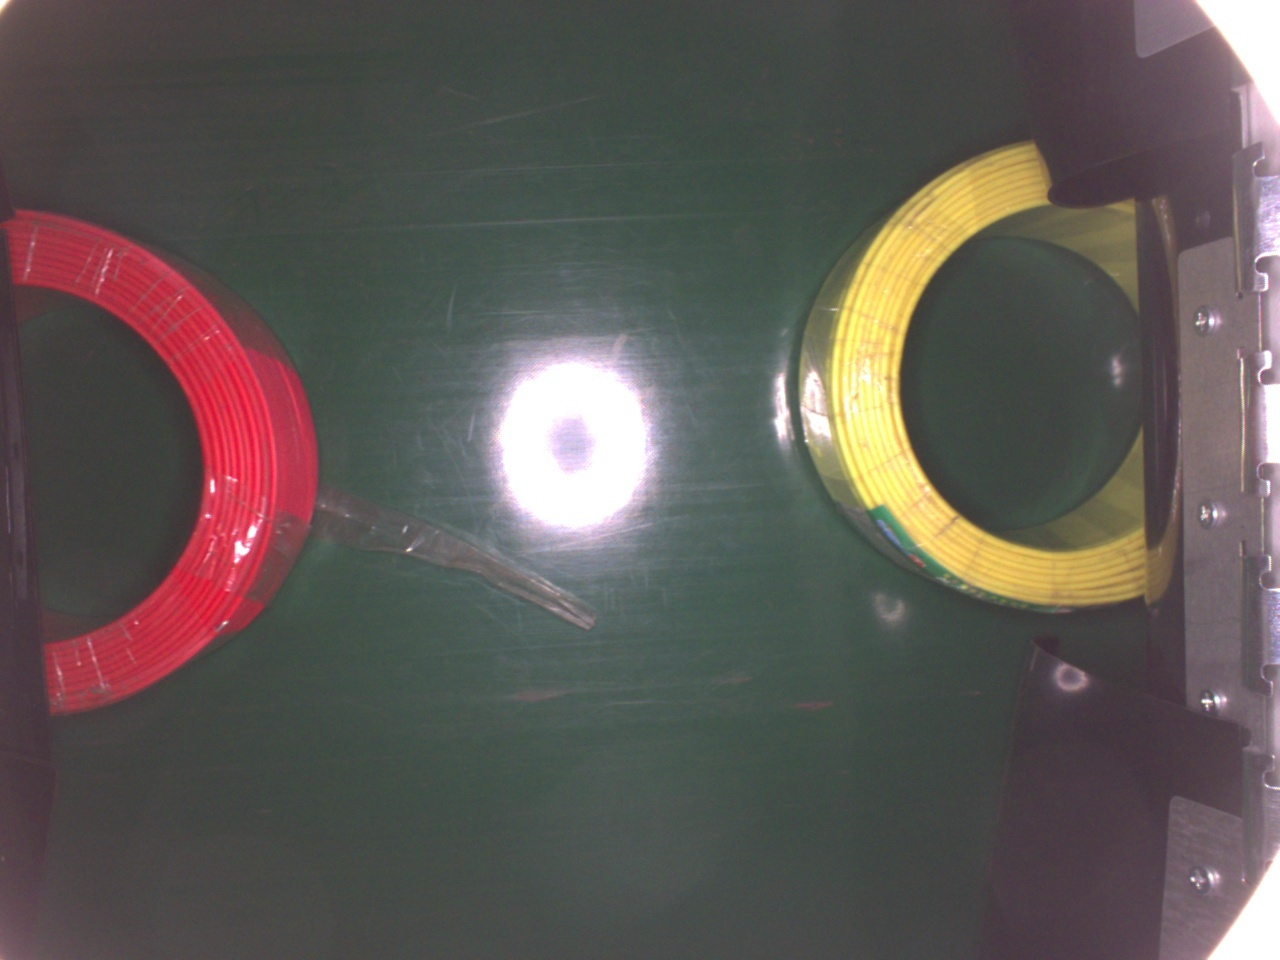red: (3, 195, 321, 719)
yellow: (794, 138, 1156, 610)
